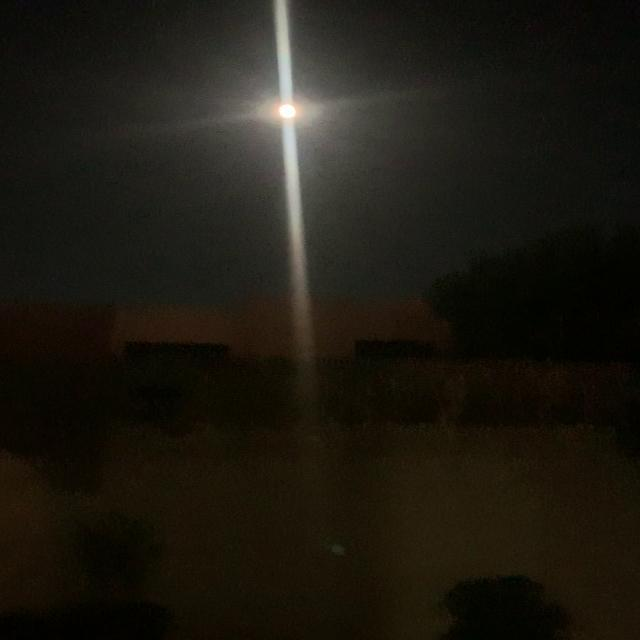moon: (254, 87, 316, 120)
